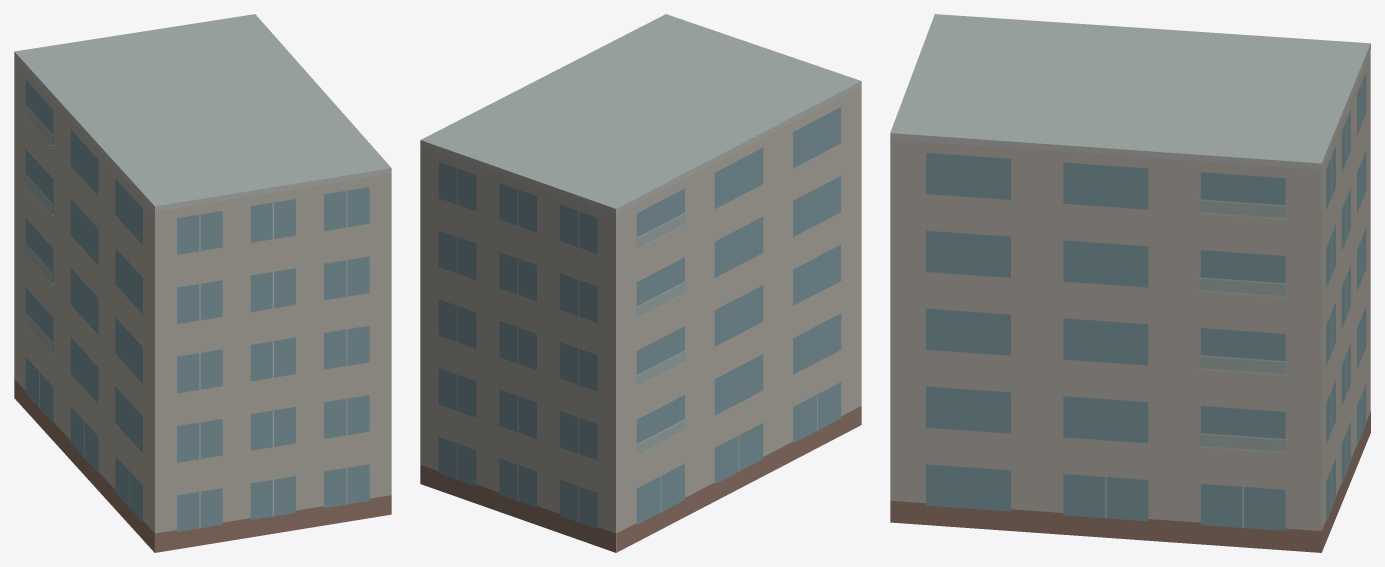
File: survey-upis-32740802.glb
3 views of the same model, side by side, from view 1: azimuth 30°, elevation 25°; view 2: azimuth 150°, elevation 25°; view 3: azimuth 270°, elevation 25° (orthographic). The views are drawn at different scales.
Parts seen in each view (by area): view 1: survey-upis-32740802.tmp; view 2: survey-upis-32740802.tmp; view 3: survey-upis-32740802.tmp.
Part boxes in pixels (x1,y1,x2,y2): survey-upis-32740802.tmp: [14, 14, 391, 552]; survey-upis-32740802.tmp: [420, 14, 861, 552]; survey-upis-32740802.tmp: [890, 14, 1370, 552].
Bounding box in the file's own units: 12.56 × 15.25 × 17.07.
